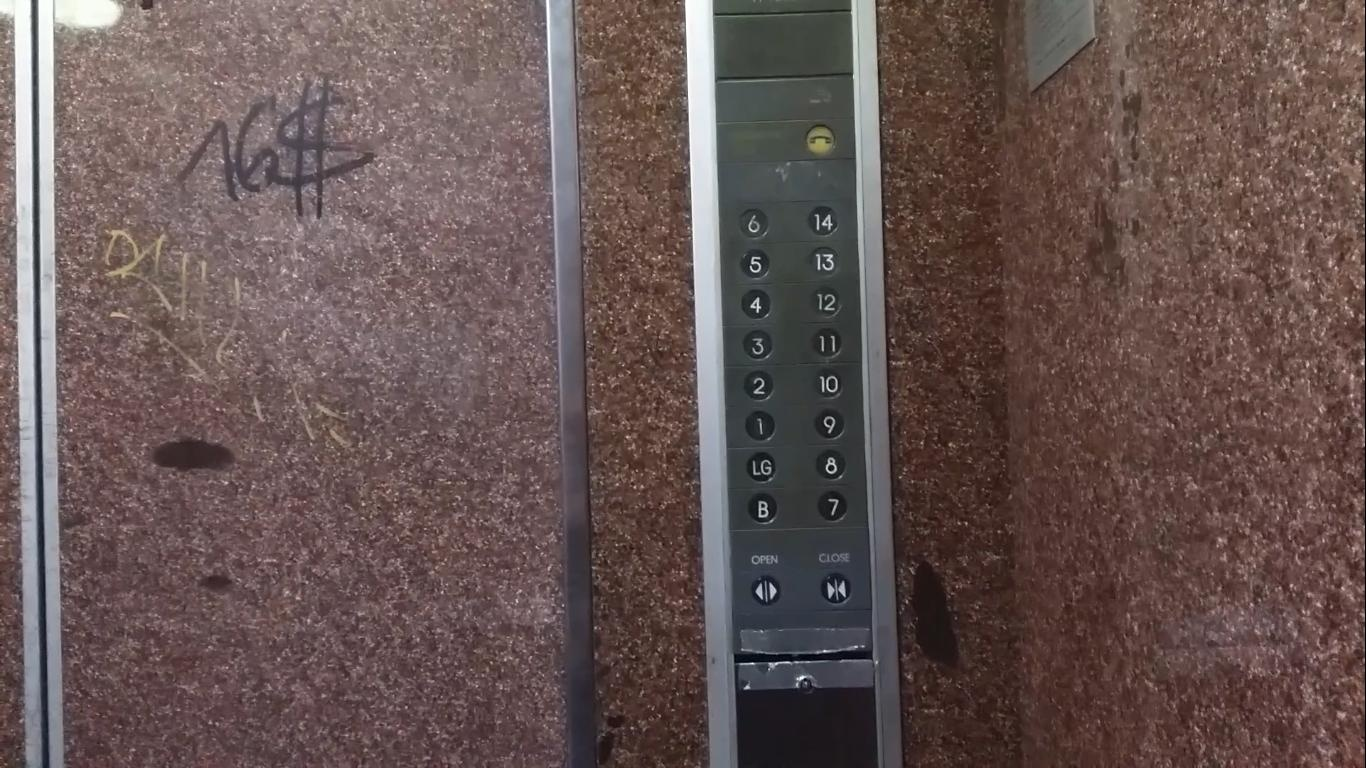1: (744, 408, 777, 443)
10: (812, 366, 845, 400)
11: (810, 326, 843, 359)
12: (809, 287, 843, 319)
13: (808, 247, 839, 276)
14: (806, 205, 840, 237)
2: (742, 369, 775, 402)
3: (742, 329, 775, 362)
4: (740, 288, 771, 320)
5: (739, 247, 771, 281)
6: (737, 207, 771, 241)
7: (815, 489, 849, 524)
8: (815, 449, 846, 481)
9: (813, 407, 845, 440)
B: (746, 489, 779, 526)
LG: (746, 450, 778, 485)
call: (805, 124, 837, 155)
close: (821, 572, 853, 606)
open: (750, 574, 781, 607)
